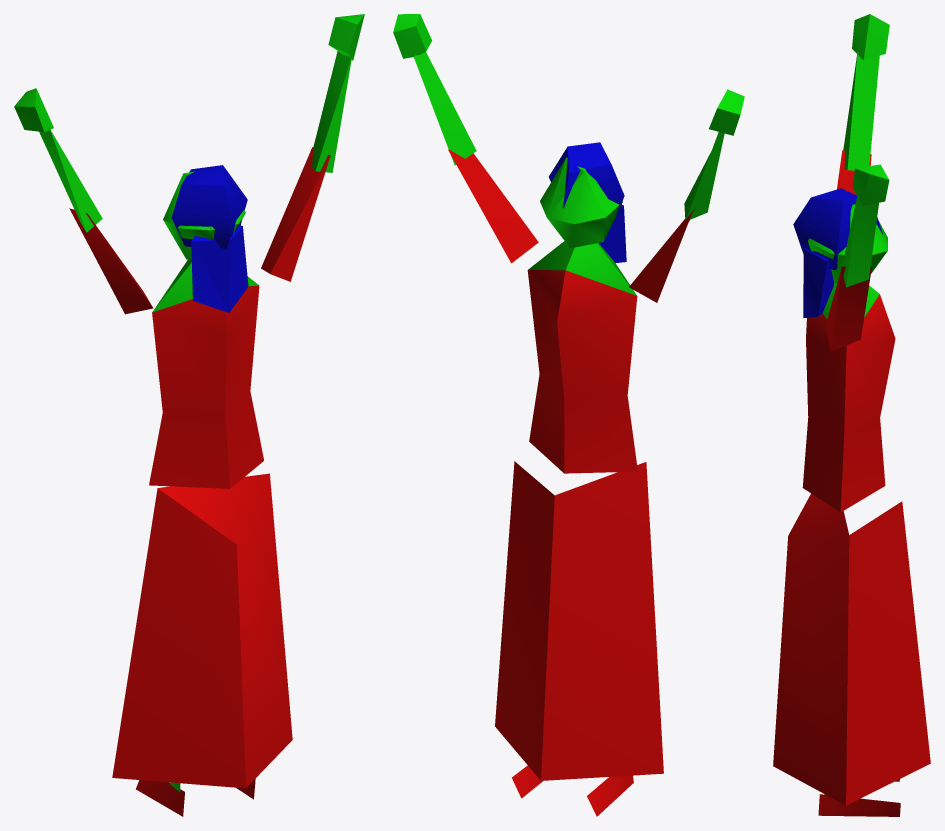
The model's file is stand_cheer_f_lod2.glb.
3 renders of one model, left to right at view 1: azimuth 30°, elevation 25°; view 2: azimuth 150°, elevation 25°; view 3: azimuth 270°, elevation 25°, orthographic. The views are drawn at different scales.
Parts seen in each view (by area): view 1: OUT_2; view 2: OUT_2; view 3: OUT_2.
Part boxes in pixels (left/top/right/bottom): OUT_2: left=14, top=14, right=364, bottom=816; OUT_2: left=393, top=14, right=744, bottom=816; OUT_2: left=773, top=14, right=930, bottom=816.
Size of the model in its own units: 0.9728 by 1.99 by 0.3989.
